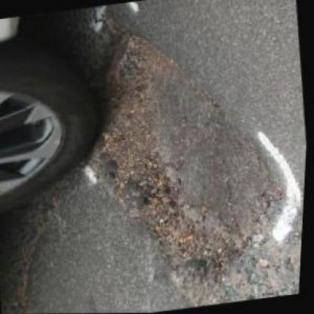Hueco: (70, 16, 269, 281)
